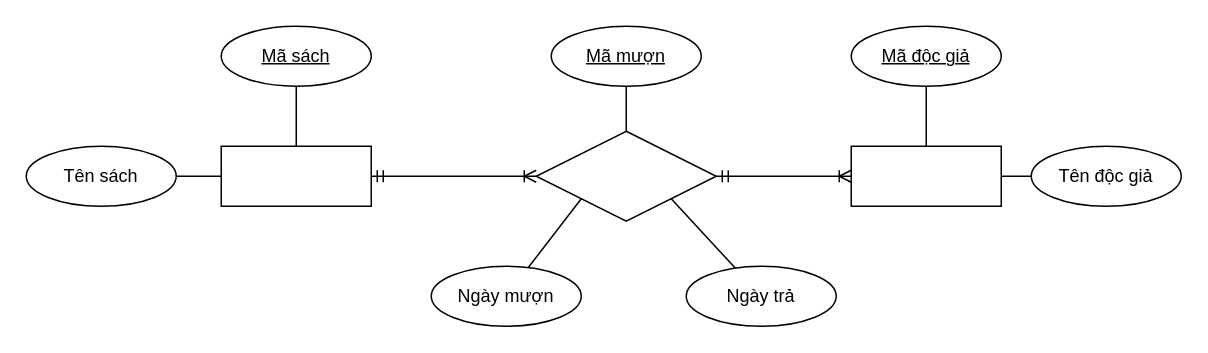
This 1208x353 diagram has some shape labels left out. The shapes that lost their labels are listed below. From the top down, each one's centre as x and y in pixels, then its label:
the point at 295,175: Sách
the point at 625,175: Mượn
the point at 925,175: Độc giả
